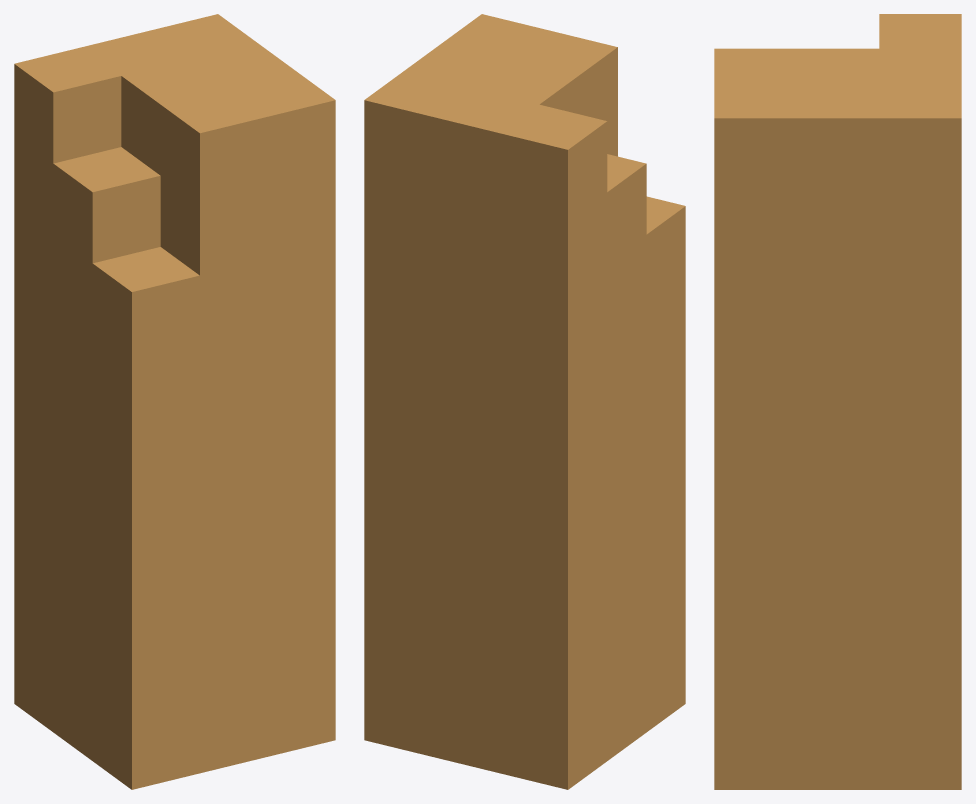
File: dog__leg_bl.glb
The picture shows the model from 3 angles, left to right: view 1: azimuth 30°, elevation 25°; view 2: azimuth 150°, elevation 25°; view 3: azimuth 270°, elevation 25°; orthographic projection. The views are drawn at different scales.
Visible parts, largest first — view 1: dog__leg_bl; view 2: dog__leg_bl; view 3: dog__leg_bl.
Boxes of the visible parts, box(x1,y1,x2,y2) form: dog__leg_bl: box(14, 14, 335, 789); dog__leg_bl: box(364, 14, 685, 789); dog__leg_bl: box(714, 14, 961, 789).
Bounding box in the file's own units: 0.3 × 0.9 × 0.3.
1 material, 1 textured.
